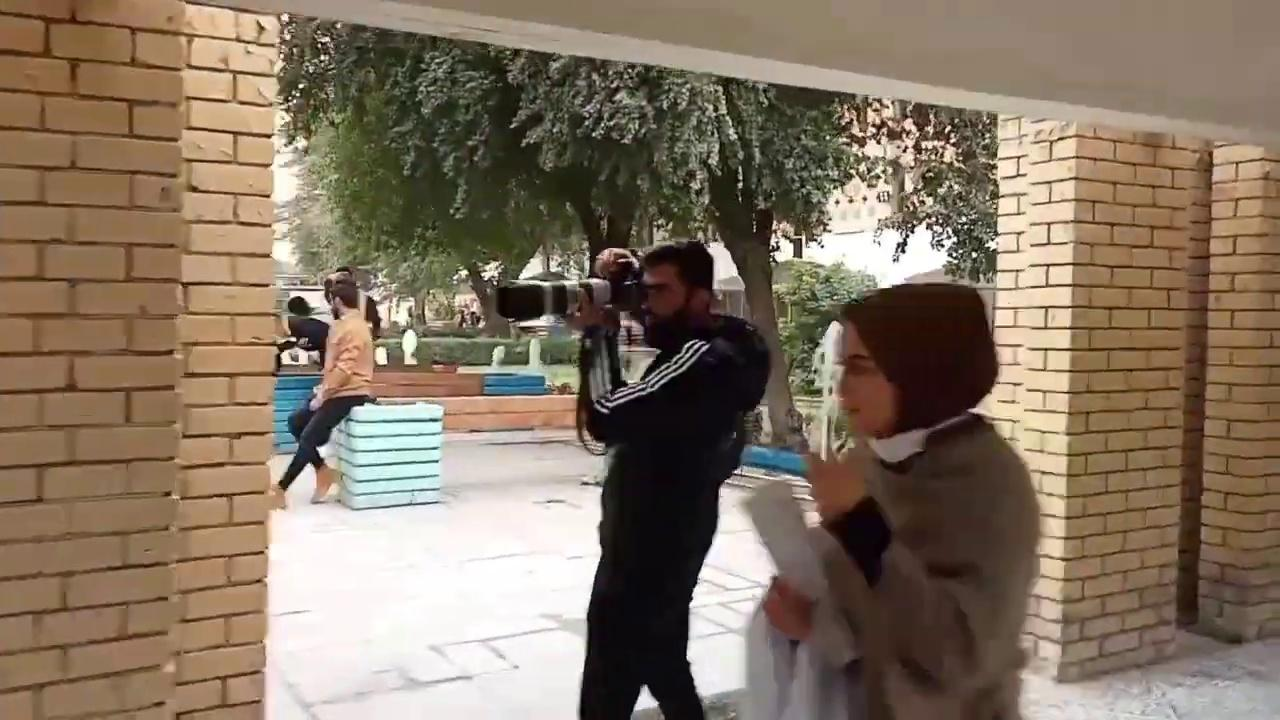car: (273, 273, 334, 366)
fountain: (400, 324, 418, 365)
person: (761, 281, 1041, 718), (566, 239, 772, 719), (276, 277, 376, 503)
tree: (270, 14, 999, 453)
